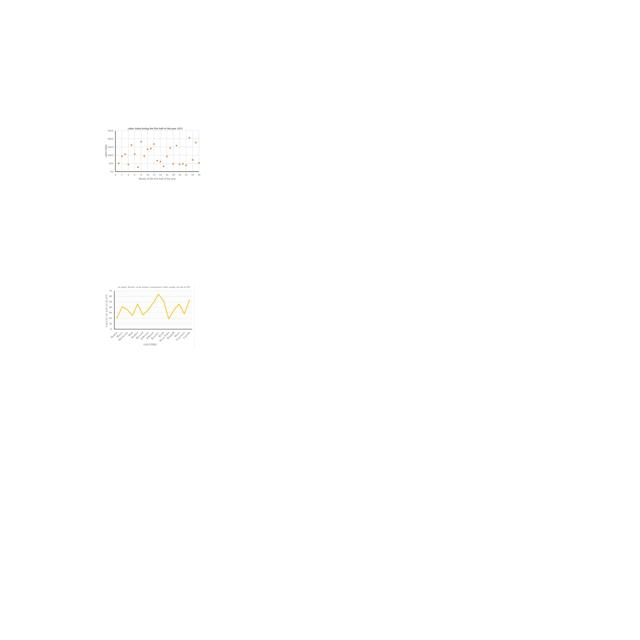Graph: (103, 285, 195, 348), (104, 126, 201, 181)
